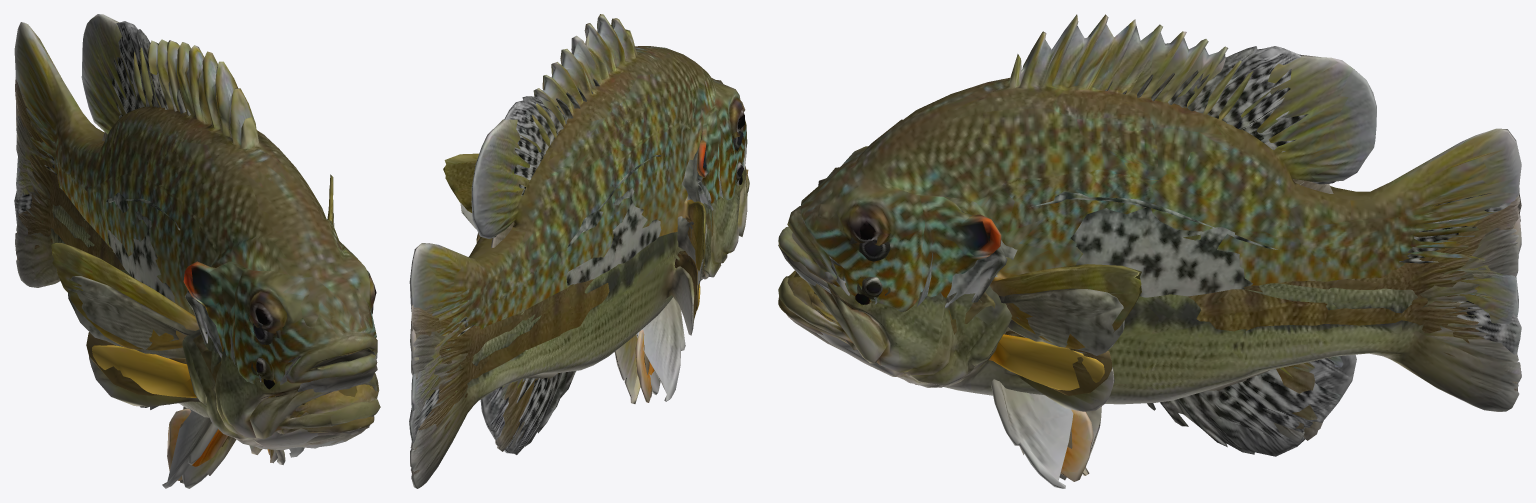
File: fish.glb
3 renders of one model, left to right at view 1: azimuth 30°, elevation 25°; view 2: azimuth 150°, elevation 25°; view 3: azimuth 270°, elevation 25°, orthographic. The views are drawn at different scales.
Parts seen in each view (by area): view 1: fish-sunfish, fish-largemouth-bass, fish-crappie, fish-smallmouth-bass, fish-yellow-perch; view 2: fish-sunfish, fish-largemouth-bass, fish-crappie, fish-smallmouth-bass, fish-yellow-perch; view 3: fish-sunfish, fish-largemouth-bass, fish-crappie, fish-smallmouth-bass, fish-yellow-perch.
Boxes of the visible parts, x1,y1,x2,y2 form: fish-sunfish: (14,14,377,454); fish-largemouth-bass: (15,115,380,488); fish-crappie: (14,21,377,488); fish-smallmouth-bass: (15,77,374,483); fish-yellow-perch: (16,102,378,480); fish-sunfish: (409,14,747,414); fish-largemouth-bass: (410,160,749,488); fish-crappie: (409,78,746,454); fish-smallmouth-bass: (411,205,713,476); fish-yellow-perch: (410,169,748,402); fish-sunfish: (778,14,1521,475); fish-largemouth-bass: (778,182,1521,454); fish-crappie: (778,46,1521,488); fish-smallmouth-bass: (778,179,1521,480); fish-yellow-perch: (787,214,1521,481).
Size of the model in its own units: 0.4736 by 0.6546 by 1.
Materials: 5 (5 with a texture image).
